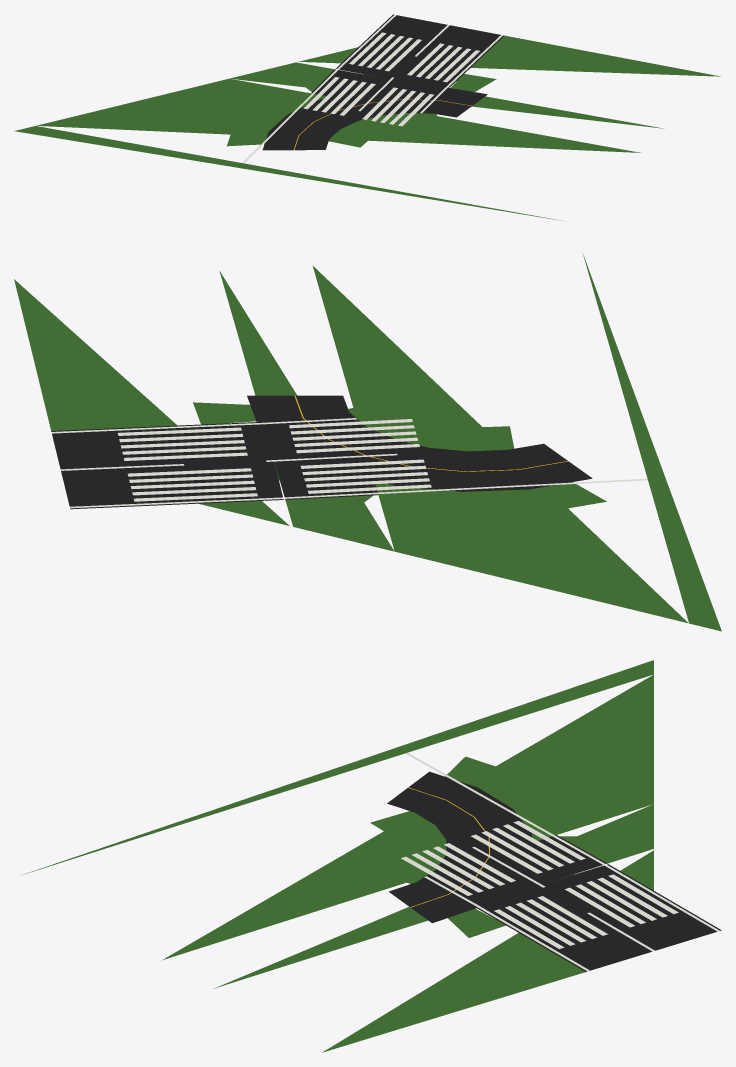
Rendered from zone_t2_3.glb.
3 views of the same model, one above another, from view 1: azimuth 30°, elevation 25°; view 2: azimuth 150°, elevation 25°; view 3: azimuth 270°, elevation 25° (orthographic). The views are drawn at different scales.
Visible parts, largest first — view 1: zone_herbe_aerodrome_t2_3, aeroport_stopway_t2_3, marquage_piste_t2_3, aeroport_taxiway_t2_3, aeroport_runway_t2_3; view 2: zone_herbe_aerodrome_t2_3, aeroport_stopway_t2_3, marquage_piste_t2_3, aeroport_taxiway_t2_3, aeroport_runway_t2_3; view 3: zone_herbe_aerodrome_t2_3, aeroport_stopway_t2_3, marquage_piste_t2_3, aeroport_taxiway_t2_3, aeroport_runway_t2_3.
Boxes of the visible parts, x1=… form: zone_herbe_aerodrome_t2_3: x1=14, y1=35, x2=720, y2=221; aeroport_stopway_t2_3: x1=336, y1=14, x2=504, y2=89; marquage_piste_t2_3: x1=242, y1=14, x2=502, y2=163; aeroport_taxiway_t2_3: x1=262, y1=88, x2=487, y2=150; aeroport_runway_t2_3: x1=311, y1=69, x2=446, y2=113; zone_herbe_aerodrome_t2_3: x1=14, y1=254, x2=721, y2=631; aeroport_stopway_t2_3: x1=51, y1=422, x2=283, y2=509; marquage_piste_t2_3: x1=51, y1=418, x2=647, y2=508; aeroport_taxiway_t2_3: x1=247, y1=395, x2=592, y2=491; aeroport_runway_t2_3: x1=263, y1=417, x2=378, y2=499; zone_herbe_aerodrome_t2_3: x1=21, y1=660, x2=653, y2=1052; aeroport_stopway_t2_3: x1=473, y1=864, x2=721, y2=971; marquage_piste_t2_3: x1=401, y1=752, x2=719, y2=971; aeroport_taxiway_t2_3: x1=387, y1=771, x2=531, y2=923; aeroport_runway_t2_3: x1=423, y1=835, x2=606, y2=906.
Bounding box in the file's own units: 249 × 0.013 × 190.
